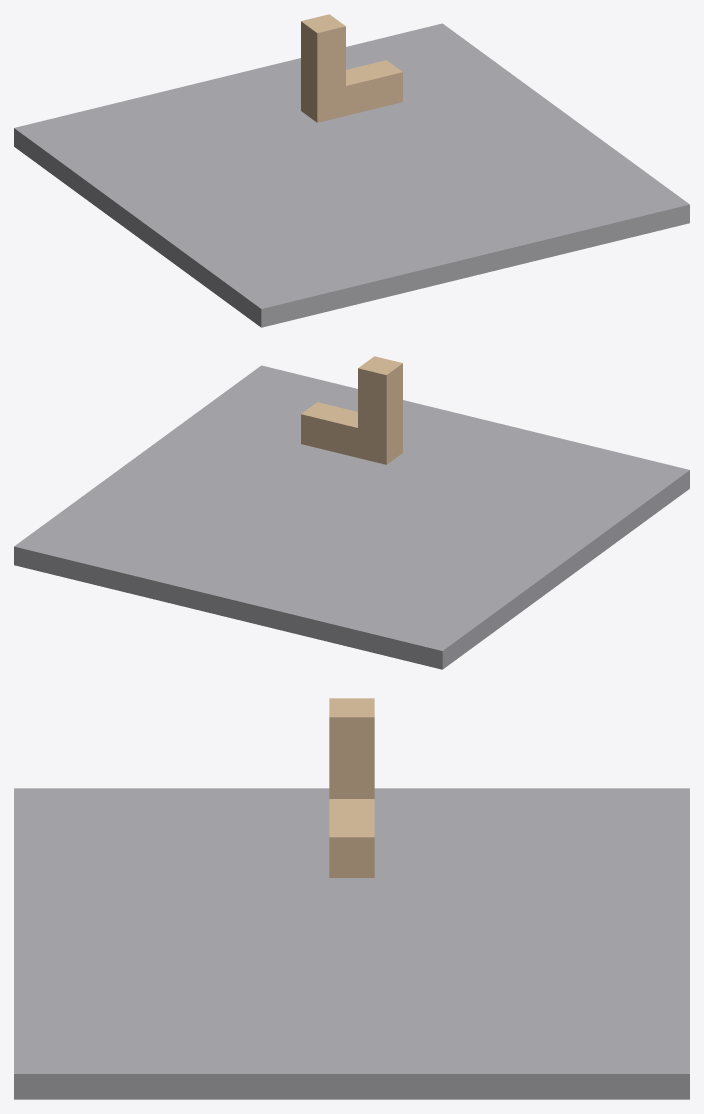
File: CompoundDemo.gltf
3 views of the same model, one above another, from view 1: azimuth 30°, elevation 25°; view 2: azimuth 150°, elevation 25°; view 3: azimuth 270°, elevation 25° (orthographic). The views are drawn at different scales.
Parts seen in each view (by area): view 1: Floor, LBlock; view 2: Floor, LBlock; view 3: Floor, LBlock.
Boxes of the visible parts, x1,y1,x2,y2 form: Floor: [14, 23, 689, 327]; LBlock: [301, 14, 402, 122]; Floor: [14, 365, 689, 669]; LBlock: [301, 356, 402, 464]; Floor: [14, 788, 689, 1099]; LBlock: [329, 698, 374, 877].
Size of the model in its own units: 12 by 4.5 by 12.
